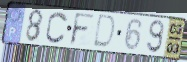6: (124, 17, 144, 52)
8: (25, 8, 45, 44)
9: (146, 18, 166, 55)
C: (45, 10, 70, 45)
D: (91, 13, 117, 50)
F: (68, 12, 96, 48)
